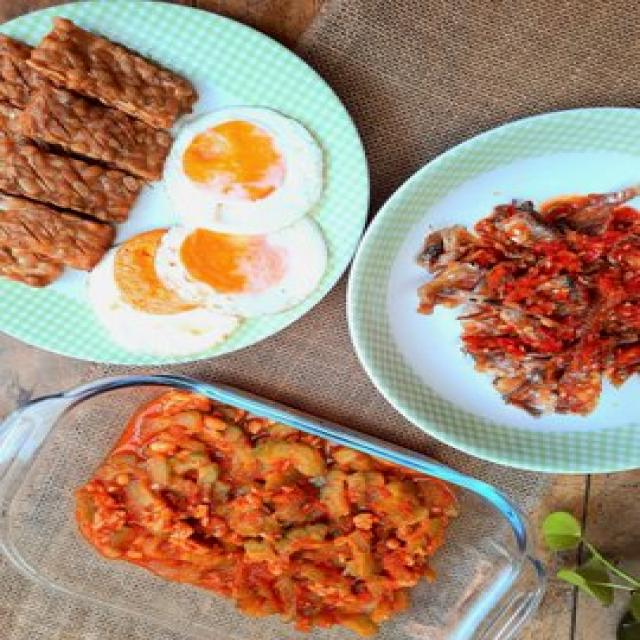telur ceplok: (161, 103, 325, 235), (154, 215, 327, 316)
tempe goreng: (26, 16, 199, 128)
